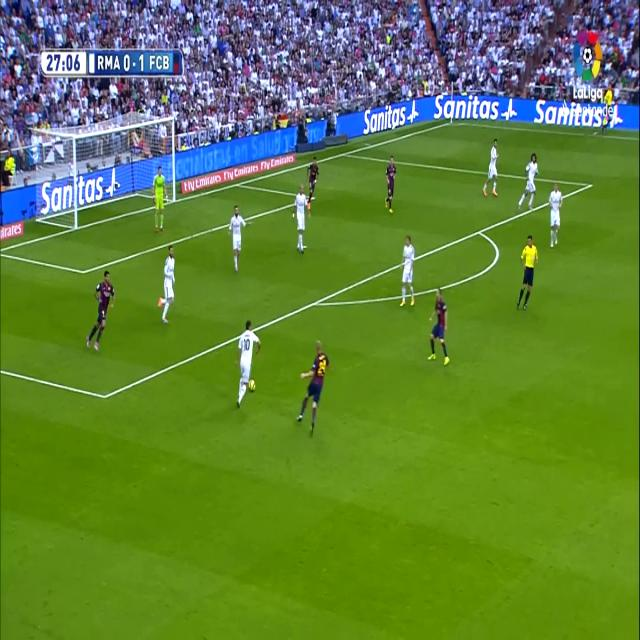bigarea_bottom_inner: (99, 385, 110, 407)
bigarea_bottom_outter: (475, 222, 485, 241)
bottom_arc_area_intersection: (311, 292, 323, 310)
corner: (447, 118, 456, 128)
